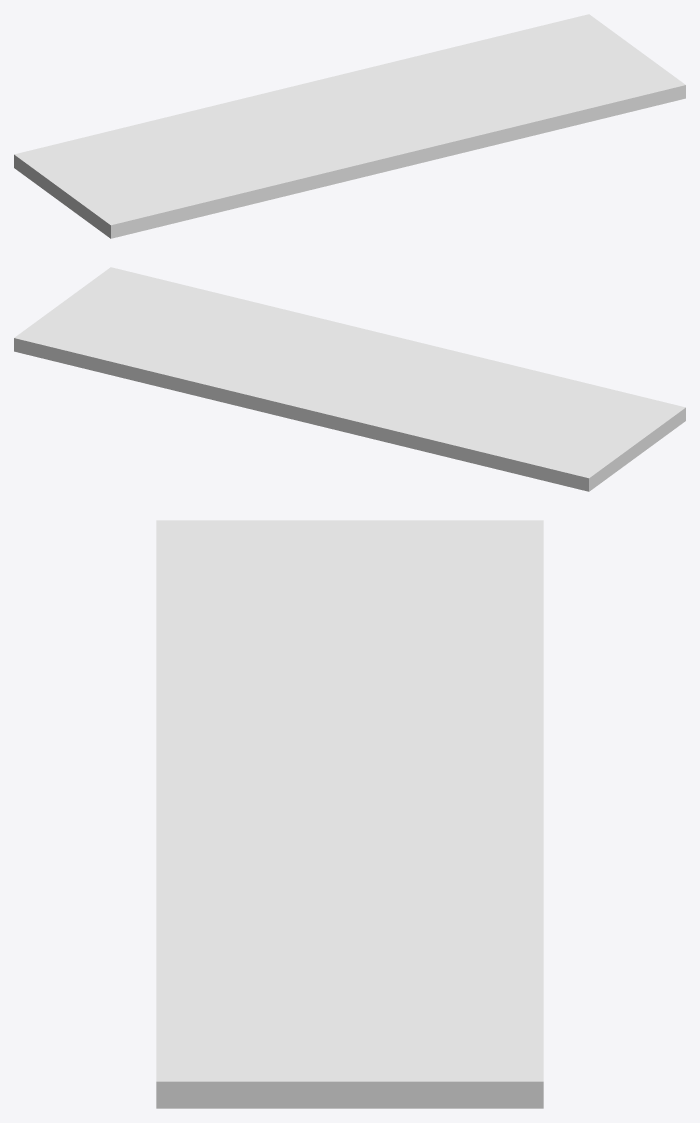
File: AEC_48043.glb
3 views of the same model, one above another, from view 1: azimuth 30°, elevation 25°; view 2: azimuth 150°, elevation 25°; view 3: azimuth 270°, elevation 25° (orthographic). The views are drawn at different scales.
Visible parts, largest first — view 1: 0; view 2: 0; view 3: 0.
Boxes of the visible parts, x1,y1,x2,y2 form: 0: (14,14,685,238); 0: (14,267,685,491); 0: (156,520,543,1108).
Bounding box in the file's own units: 1.6 × 0.036 × 0.467.
1 material, 1 textured.
